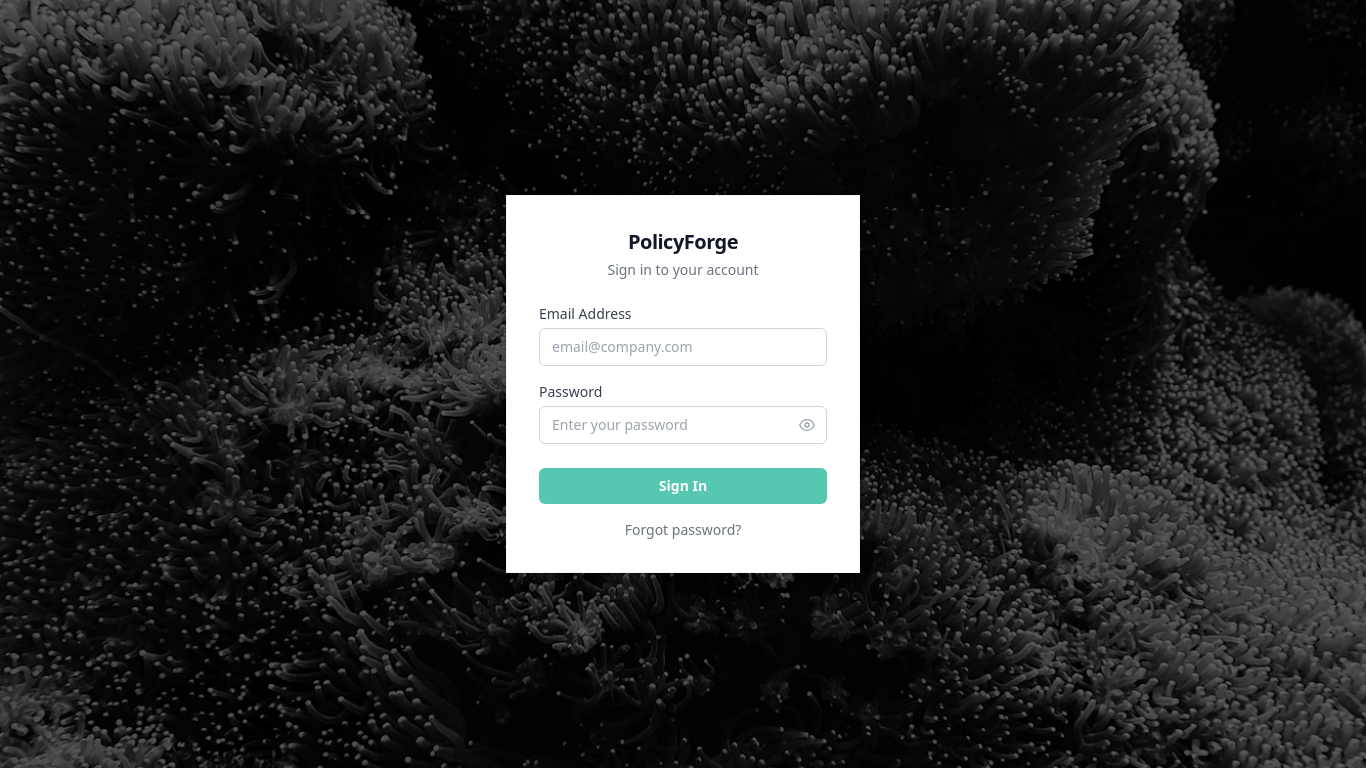
it: LoginPage › T-AUTH-LOGIN-R6: disables the submit button while loading
The image size is (1366, 768).
Type "jane@example.com" into the field labelled "Email Address" at (683, 347), box [539, 328, 827, 366]
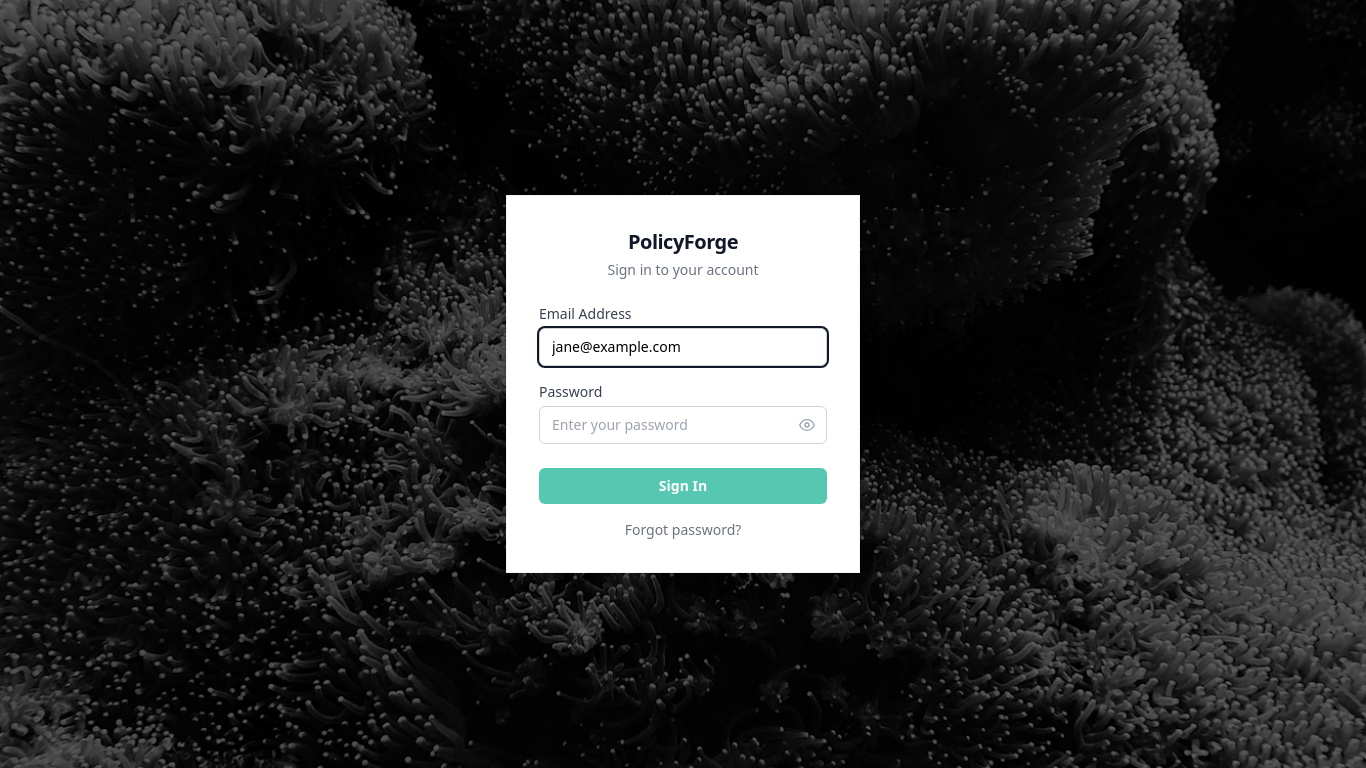
Type "password123" into the password field labelled "Password" at (683, 425), box [539, 406, 827, 444]
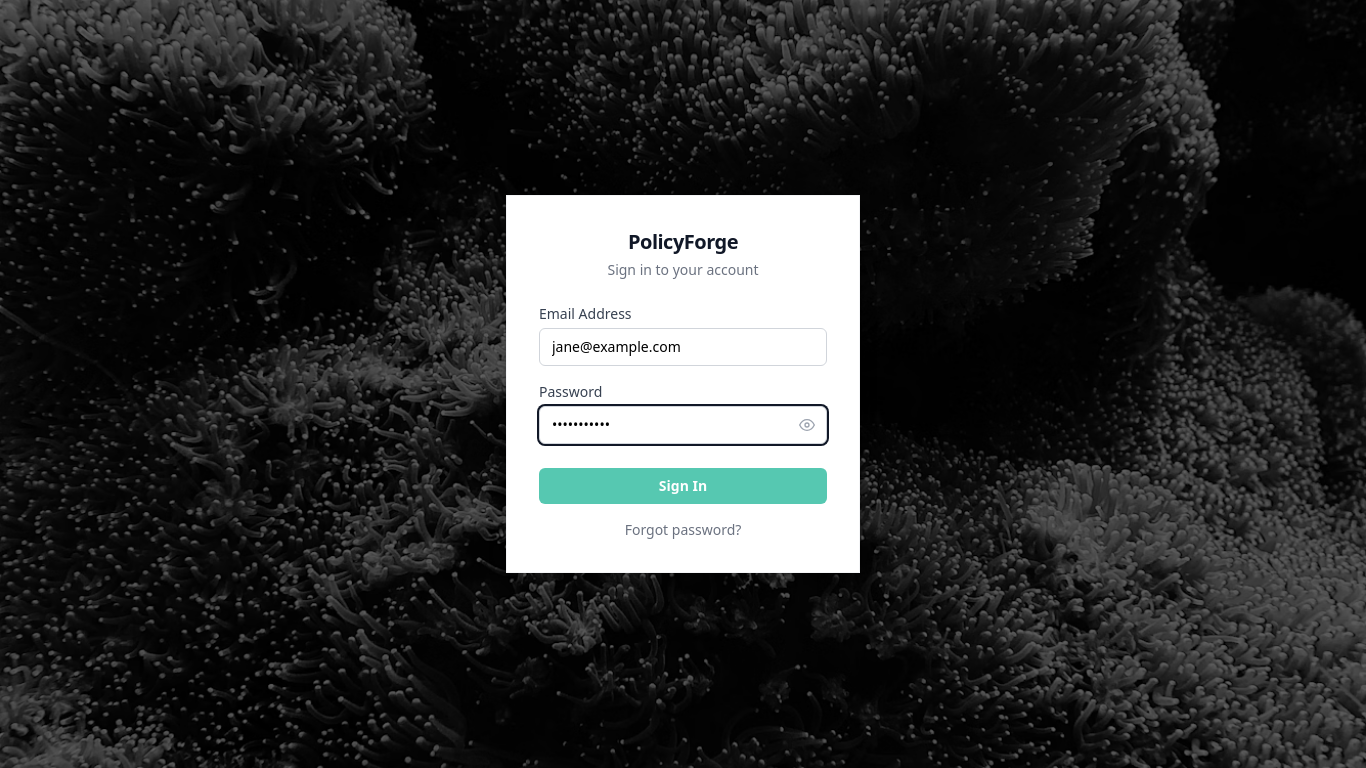
Click the button "Sign In" at (683, 486), box [539, 468, 827, 504]
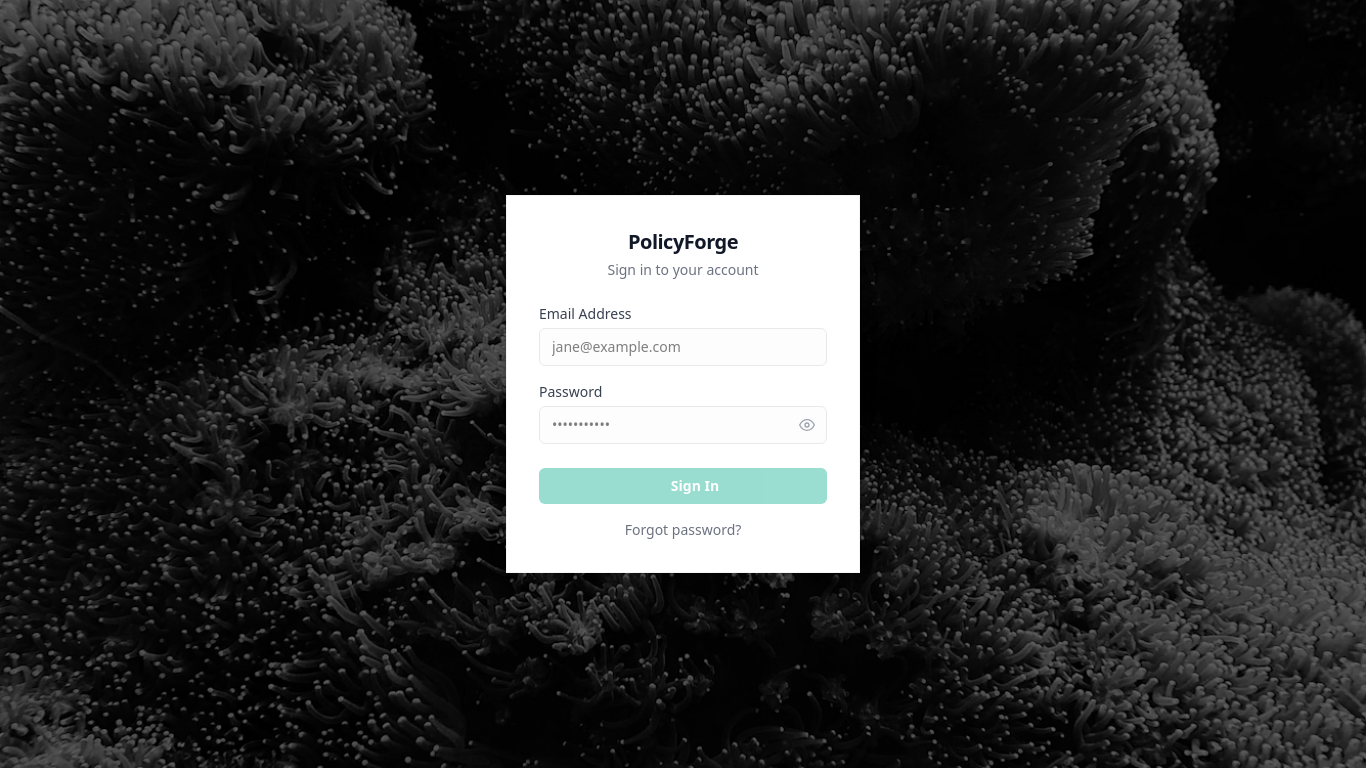
Expected: the button "Sign In" is disabled, [539, 468, 827, 504]
